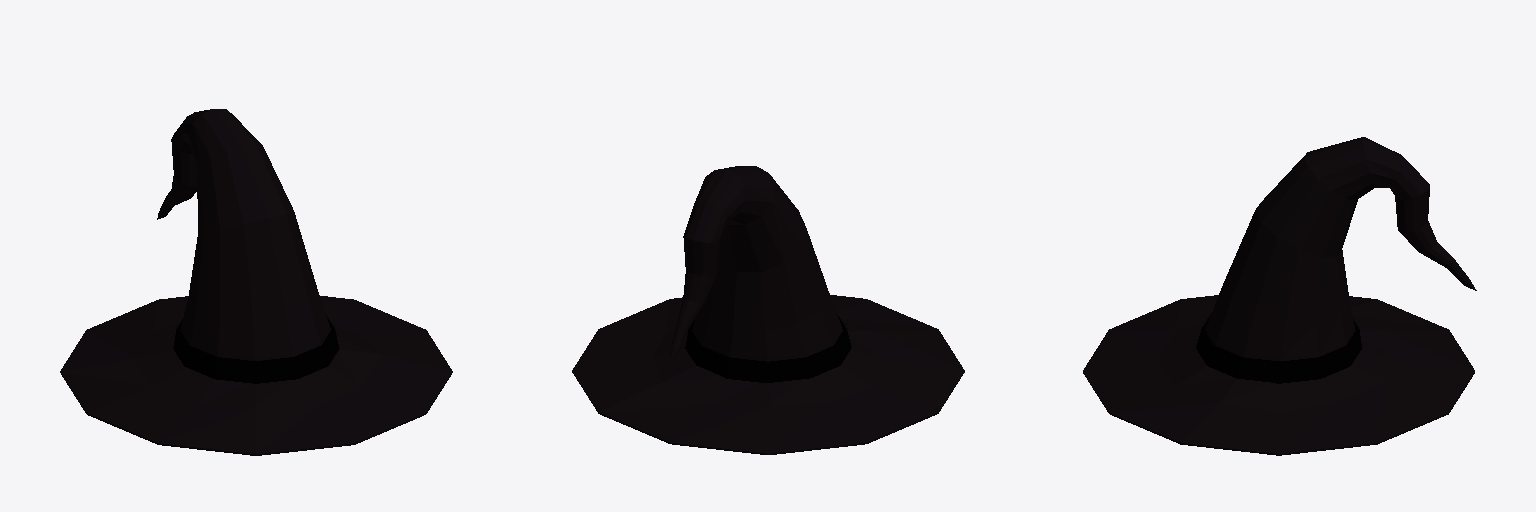
File: hat.obj
The picture shows the model from 3 angles: view 1: azimuth 30°, elevation 25°; view 2: azimuth 150°, elevation 25°; view 3: azimuth 270°, elevation 25°; orthographic projection.
Visible parts, largest first — view 1: wizard_hat; view 2: wizard_hat; view 3: wizard_hat.
Boxes of the visible parts, box(x1,y1,x2,y2) form: wizard_hat: box(60, 109, 452, 455); wizard_hat: box(572, 166, 964, 454); wizard_hat: box(1083, 137, 1476, 455).
Bounding box in the file's own units: 0.2798 × 0.1839 × 0.2812.